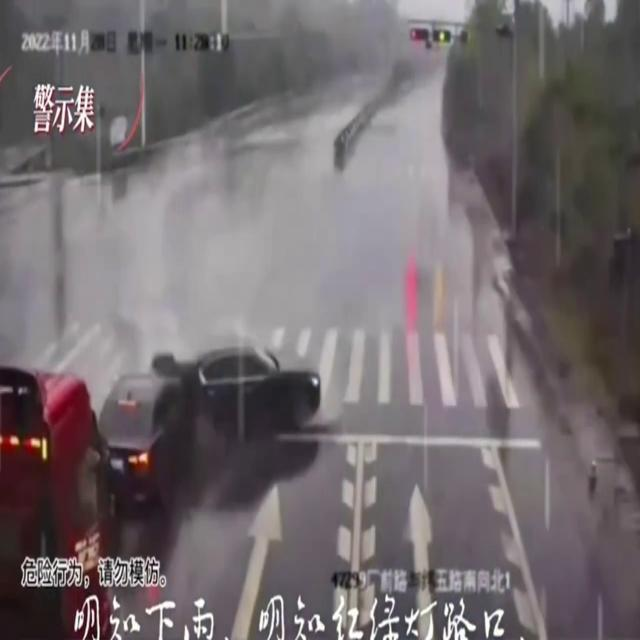accident: (92, 336, 322, 512)
